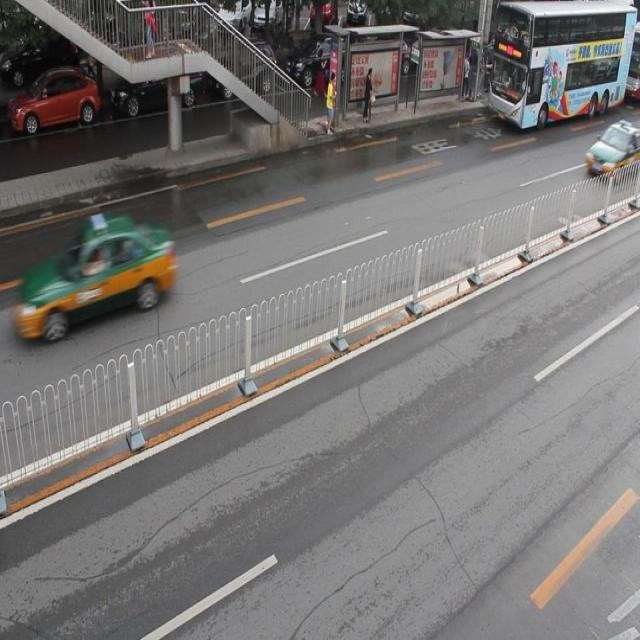car: (26, 218, 175, 332), (12, 70, 100, 136), (113, 52, 202, 116), (214, 38, 279, 102), (285, 34, 355, 89), (582, 120, 640, 181)
van: (485, 1, 632, 127)
